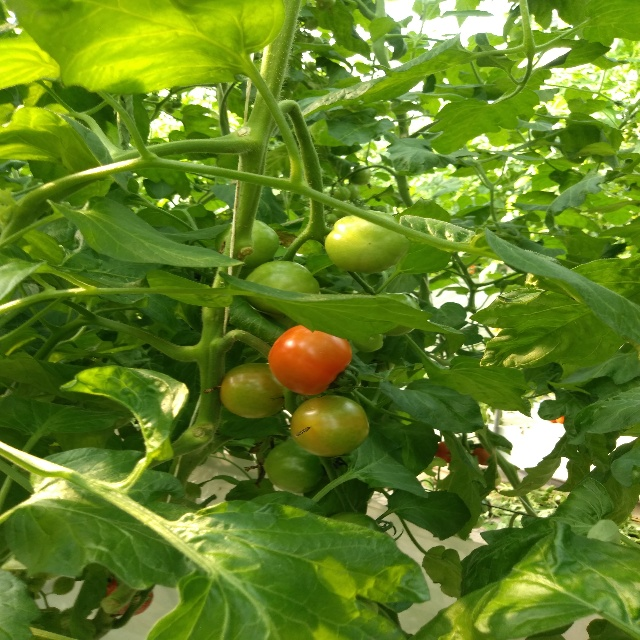l_fully_ripened: (268, 325, 353, 396)
l_green: (325, 211, 410, 274), (241, 261, 321, 316), (221, 363, 286, 419), (263, 439, 326, 493), (214, 219, 280, 269), (350, 334, 384, 353)
l_half_ripened: (289, 394, 370, 457)
